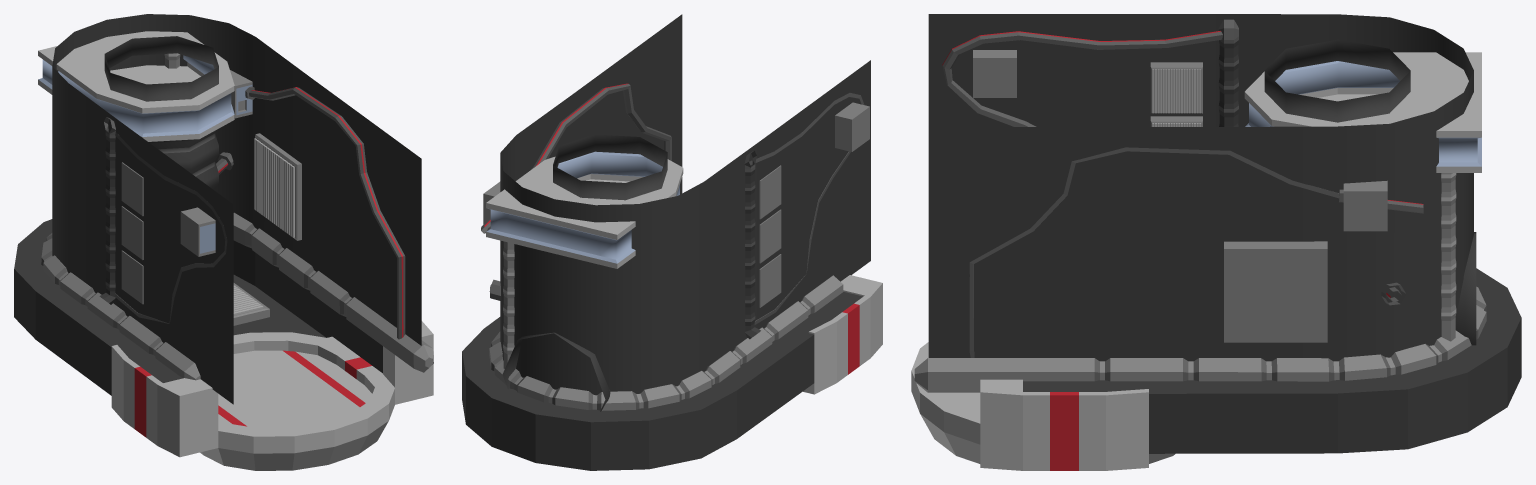
Rendered from PipeDoor.glb.
3 views of the same model, side by side, from view 1: azimuth 30°, elevation 25°; view 2: azimuth 150°, elevation 25°; view 3: azimuth 270°, elevation 25° (orthographic). The views are drawn at different scales.
Visible parts, largest first — view 1: door; view 2: door; view 3: door.
Boxes of the visible parts, x1,y1,x2,y2 form: door: (14,14,433,470); door: (462,14,882,470); door: (911,14,1521,470).
Size of the model in its own units: 2.76 by 2.83 by 4.47.
1 material, 1 textured.
